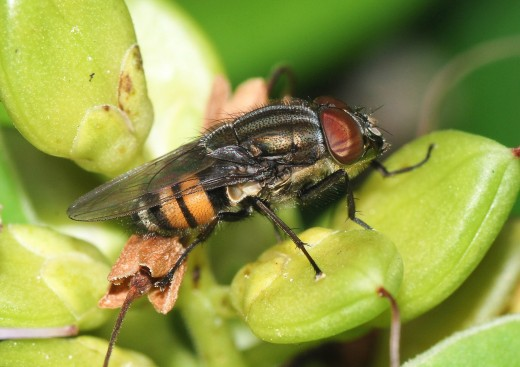green bottles fly: (56, 53, 445, 288)
